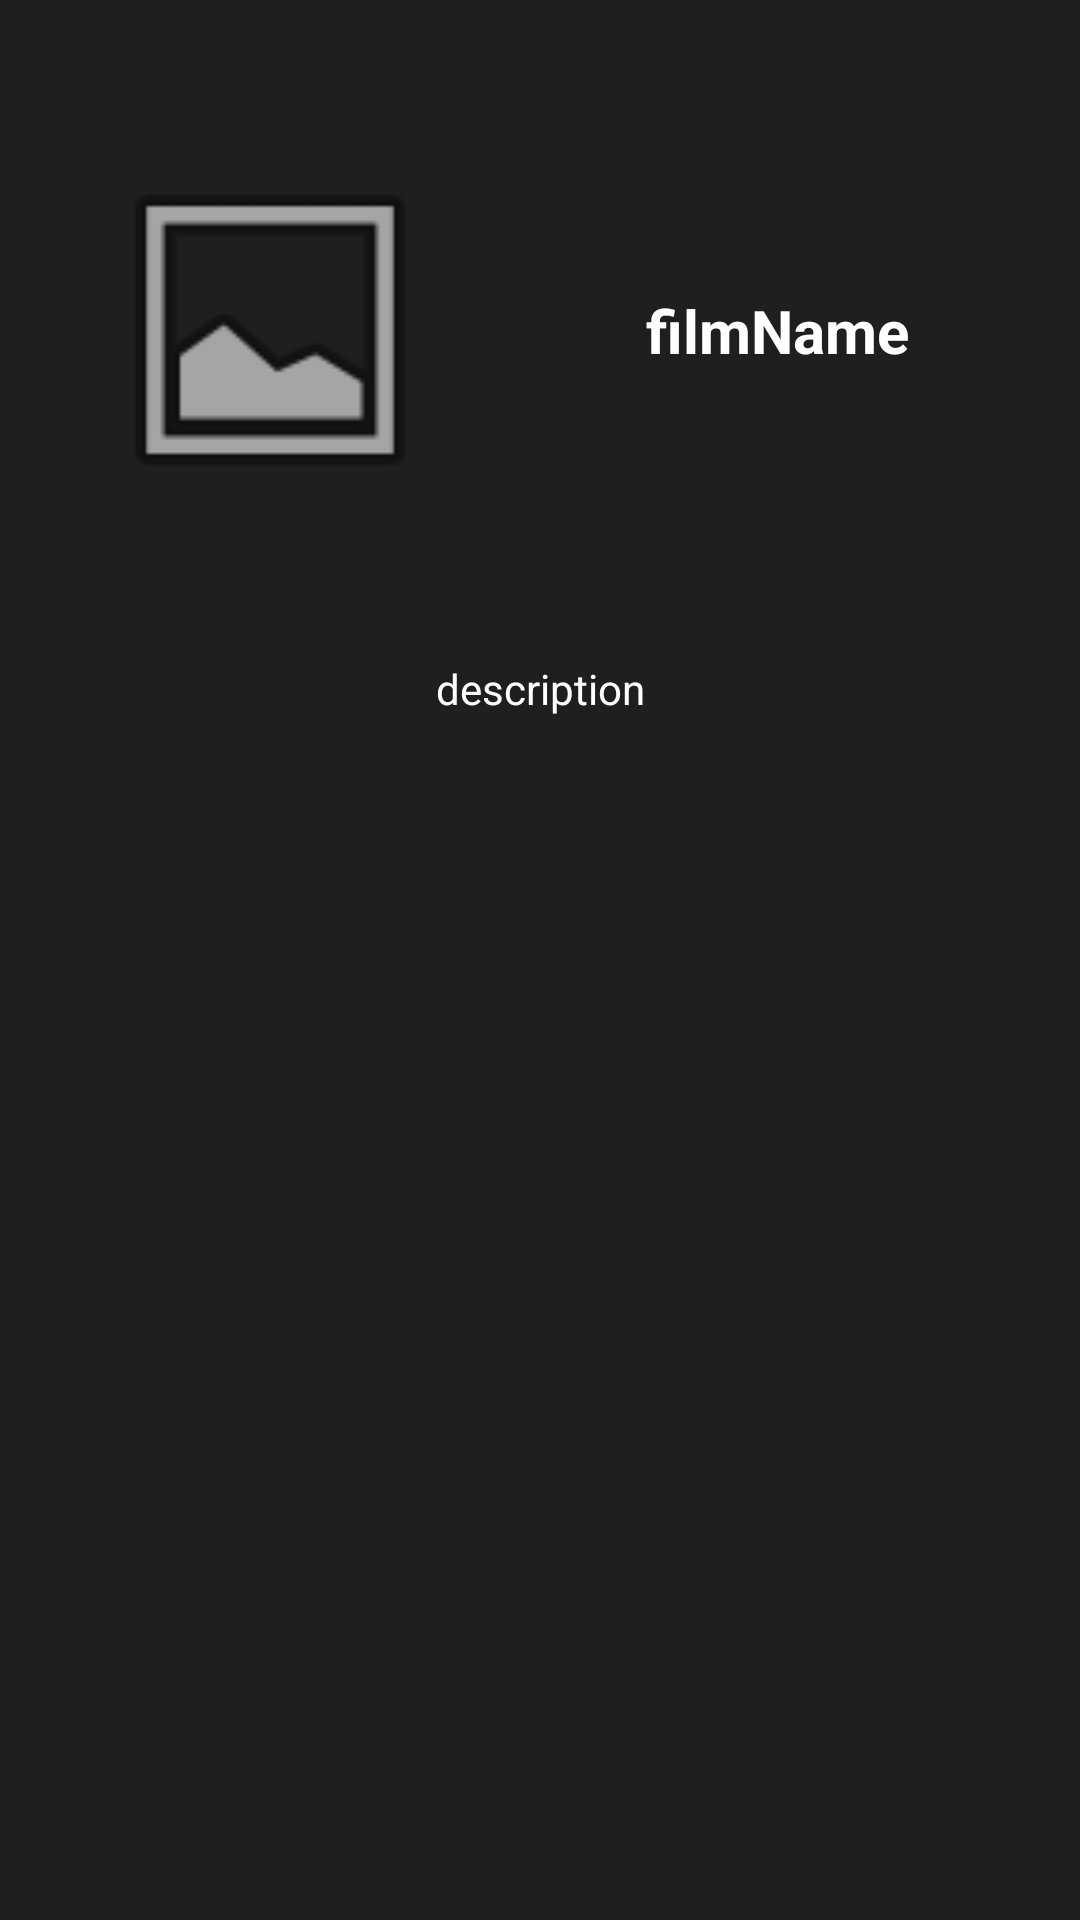

Where icons sit on this 1080 × 1920 app screen, as (x1, y1, x2, y2):
gallery: (146, 205, 394, 455)
